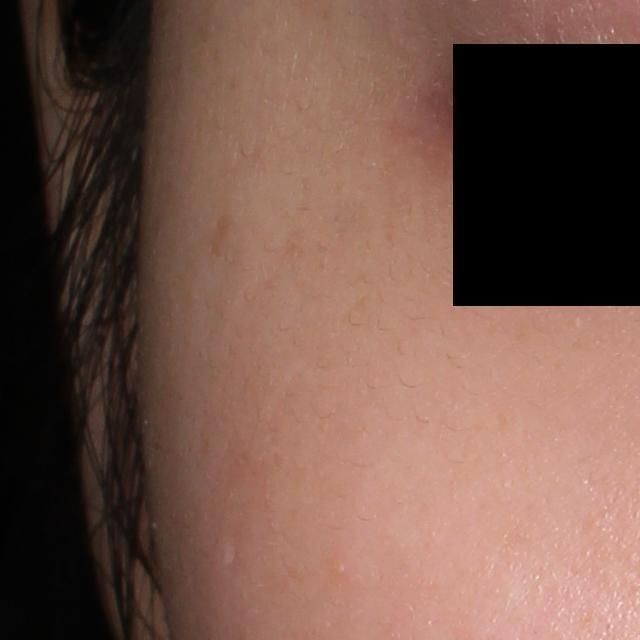melasma: (208, 208, 233, 257)
